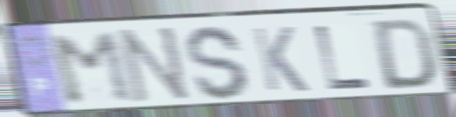D: (371, 15, 438, 92)
K: (249, 24, 312, 94)
L: (312, 22, 374, 92)
M: (44, 29, 140, 109)
N: (118, 24, 193, 106)
S: (182, 23, 252, 103)
